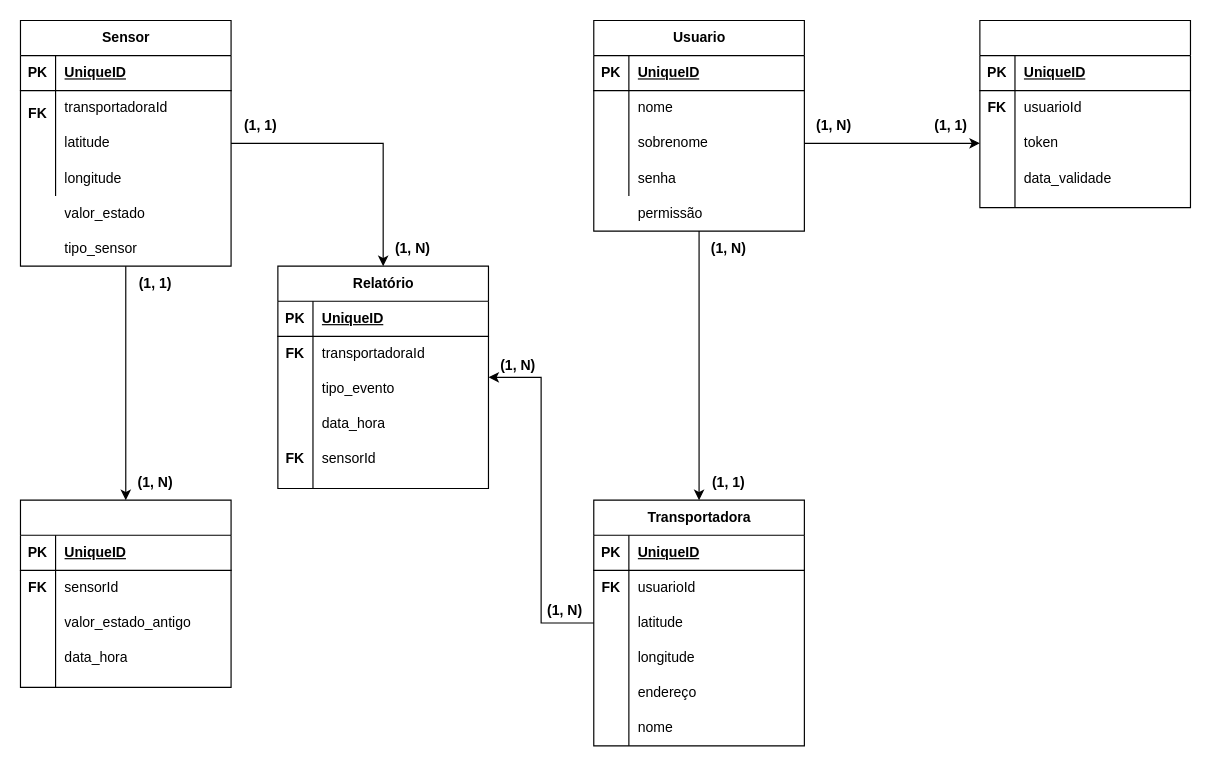
The diagram is 1211 pixels wide and 766 high, and some of its shapes have lost their labels. The box of each missing label's shape, as (x1, y1, x2, y2) in pixels:
Histórico: (19, 499, 231, 687)
Sessão: (979, 19, 1190, 208)
